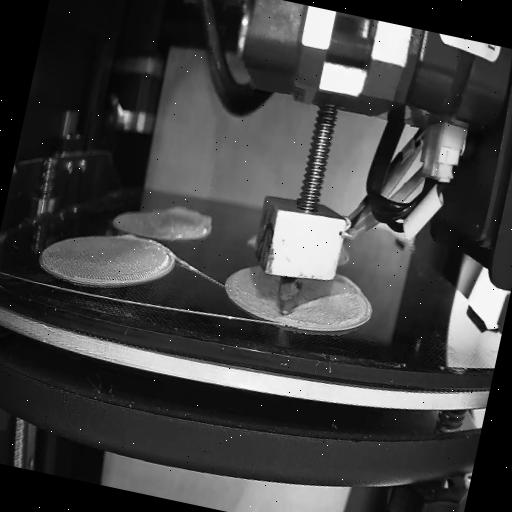over_extrusion: (162, 203, 216, 243), (296, 282, 351, 319), (116, 228, 140, 244)
